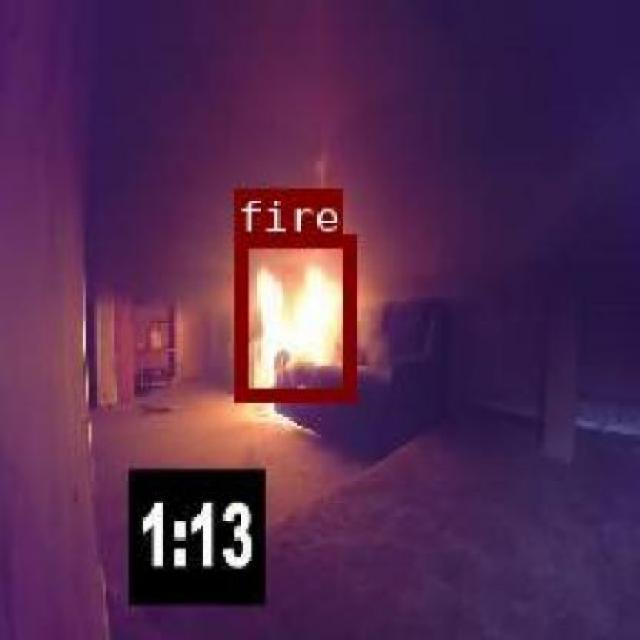Fire: (234, 234, 352, 400)
